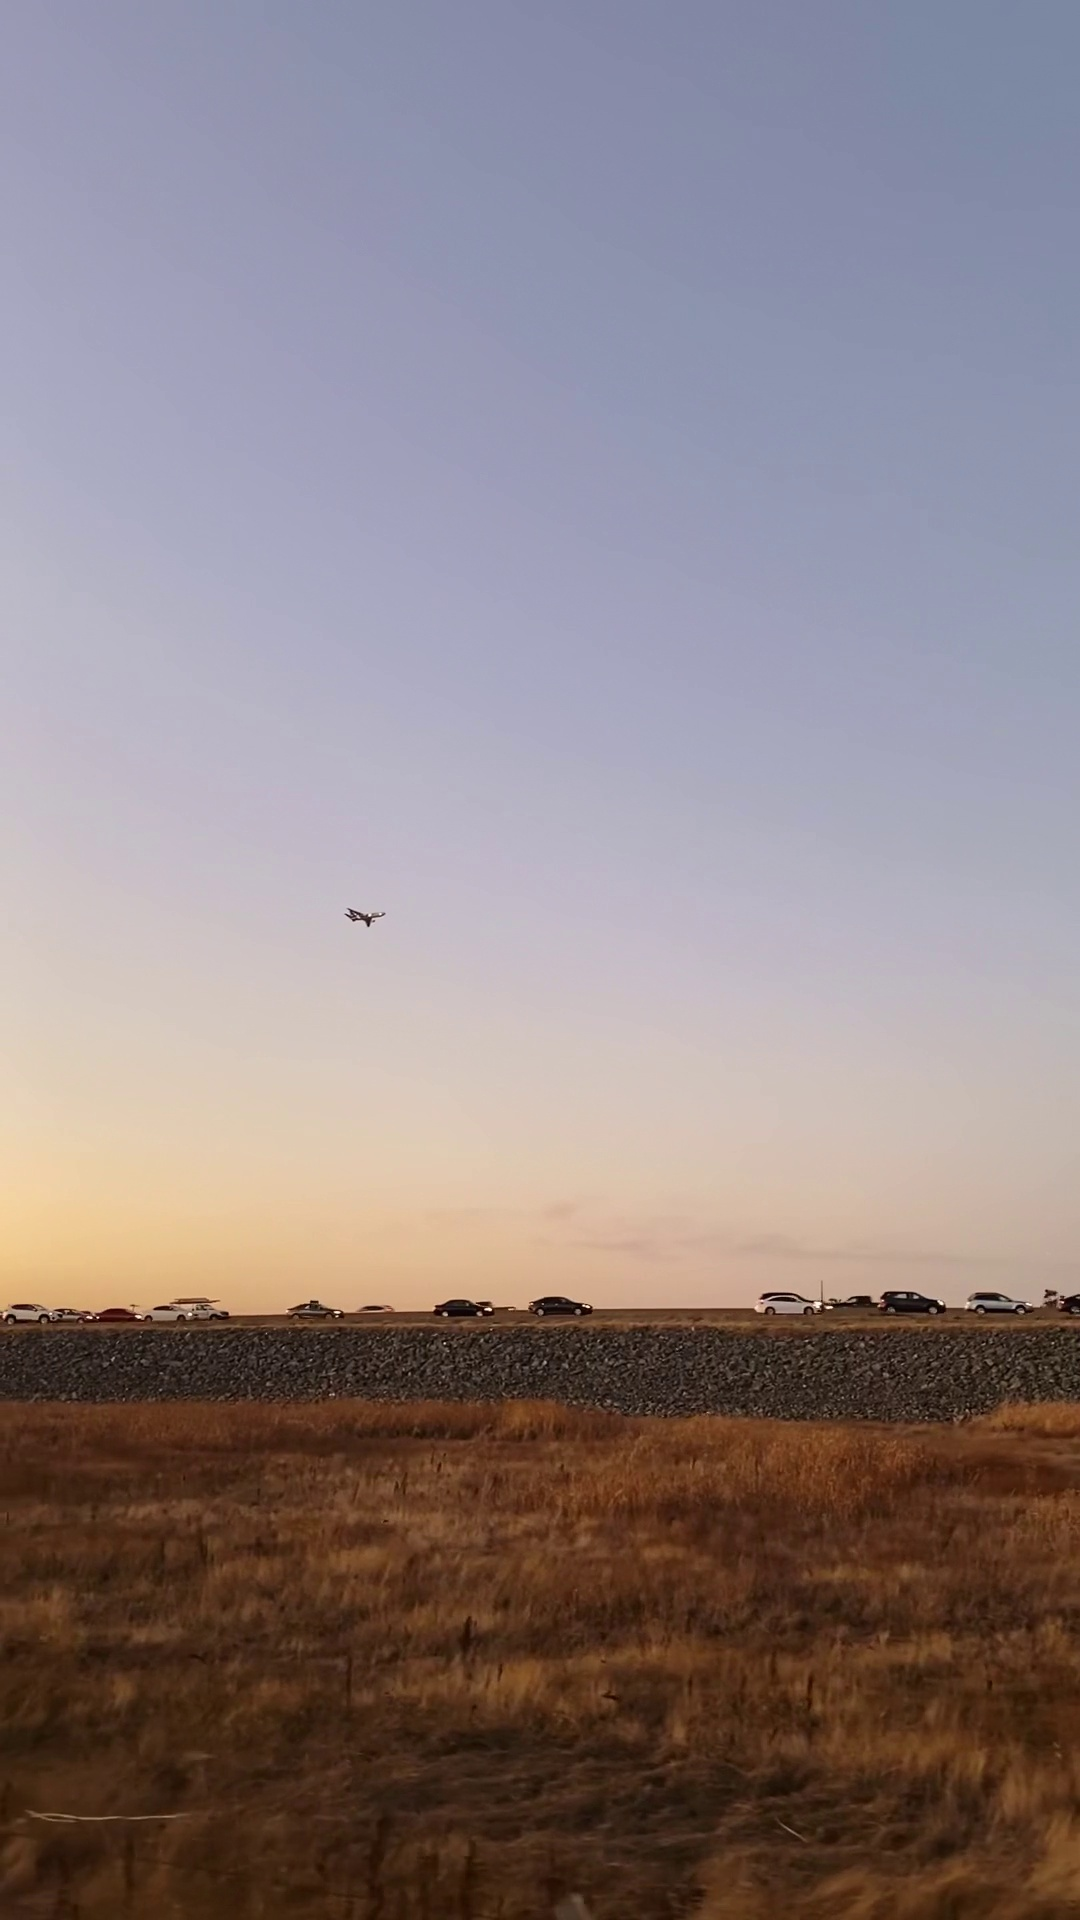plane: (342, 905, 386, 927)
